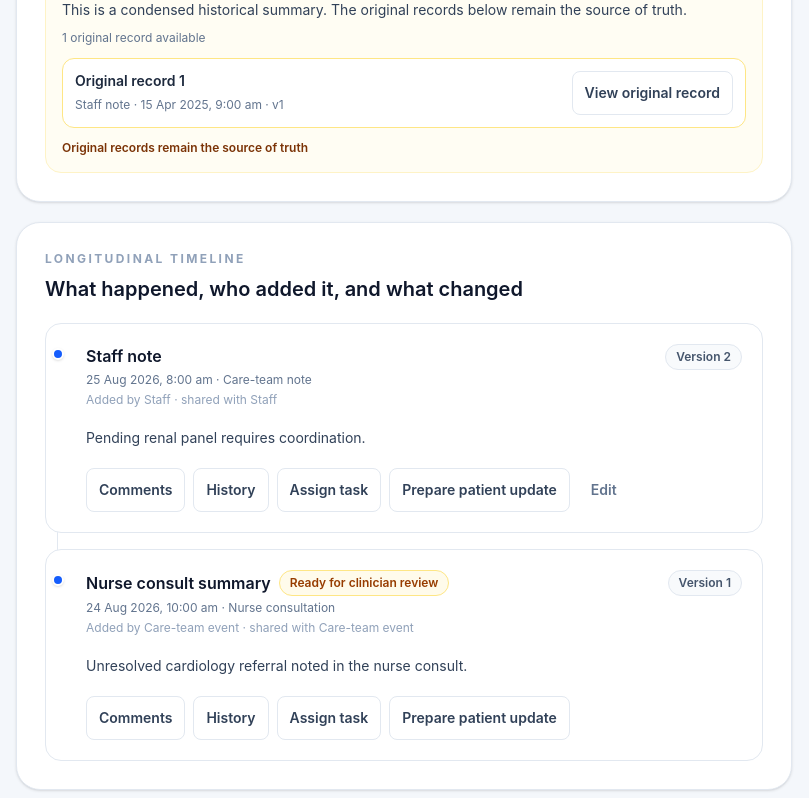
Gate B shared care note › keeps History rows on aligned columns and labels the current row
(page scrolled)
Click the button "History" below "Added by Staff · shared with Staff": [231, 490] box [193, 468, 268, 512]
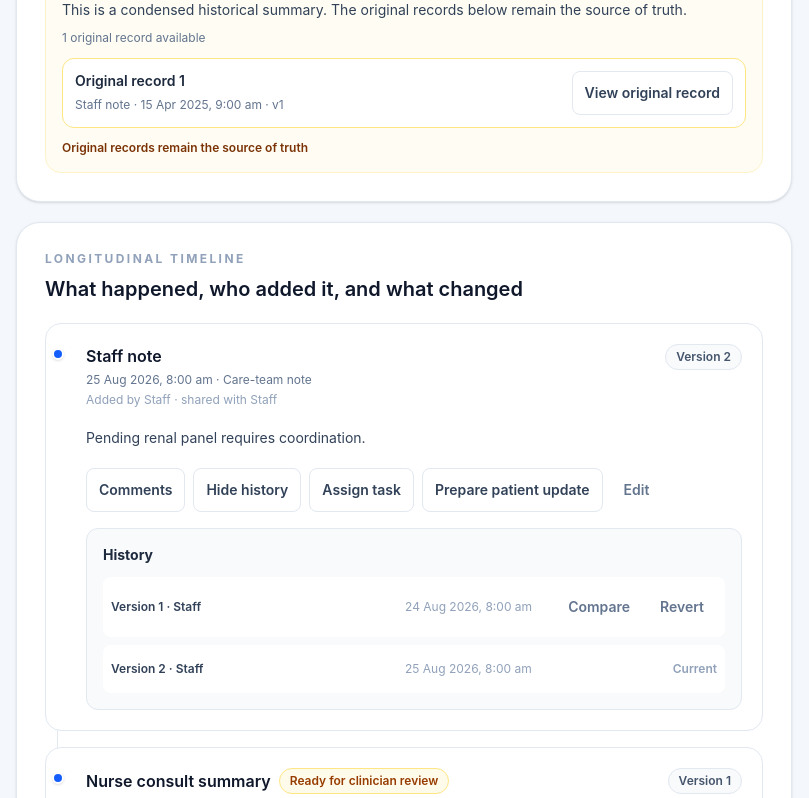
expect the button "Compare" is shown: met, box [555, 584, 643, 628]
expect the button "Revert" is shown: met, box [647, 584, 717, 628]
expect the text with test id "history-current-row-label" reads "Current": met, box [673, 660, 717, 676]
